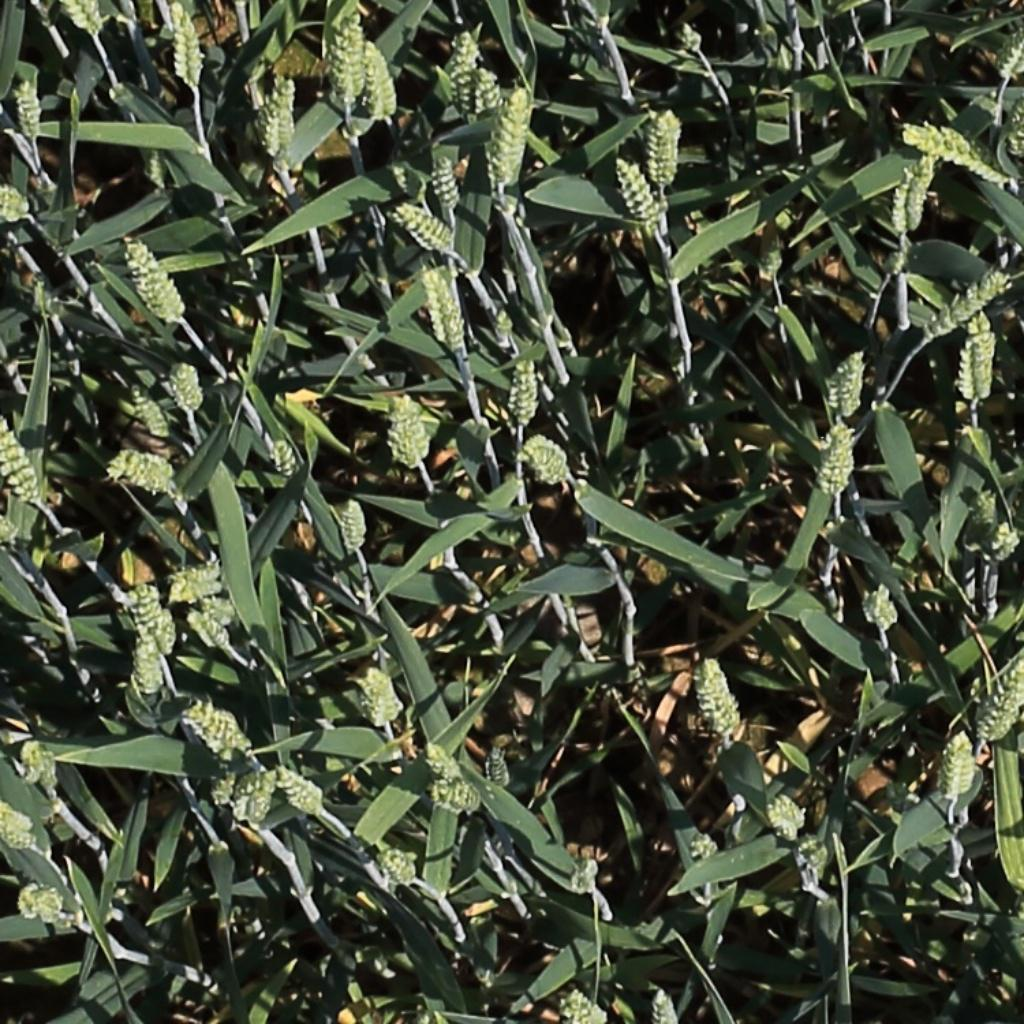0-0: (903, 122, 1008, 180), (121, 233, 187, 323), (927, 271, 1011, 338), (0, 390, 45, 506), (420, 262, 469, 353), (976, 656, 1024, 748), (890, 148, 940, 232), (700, 653, 745, 746), (613, 150, 664, 232), (954, 303, 996, 402), (211, 765, 279, 826), (249, 70, 297, 154), (128, 581, 176, 660), (498, 81, 532, 189), (190, 705, 257, 759), (125, 376, 176, 446), (824, 344, 871, 419), (391, 389, 431, 471), (361, 36, 398, 124), (393, 200, 456, 251), (169, 2, 203, 94), (285, 764, 341, 816), (133, 607, 163, 703), (758, 785, 809, 841), (502, 349, 539, 426), (17, 734, 61, 798), (823, 417, 856, 502), (420, 737, 469, 793), (453, 23, 480, 124), (793, 829, 835, 891), (473, 58, 509, 128), (338, 10, 364, 106), (182, 607, 234, 655), (363, 663, 398, 733), (521, 438, 573, 484), (943, 731, 973, 809), (196, 584, 249, 628), (653, 103, 679, 191), (374, 846, 420, 894), (109, 454, 172, 488), (172, 353, 204, 419), (675, 821, 733, 857), (15, 72, 43, 146), (384, 157, 430, 201), (432, 148, 462, 215), (993, 21, 1024, 84), (16, 886, 62, 927), (266, 431, 301, 484), (871, 578, 901, 638), (570, 849, 602, 903), (65, 0, 106, 42), (143, 139, 173, 196), (987, 520, 1021, 570), (0, 804, 36, 851), (484, 740, 513, 798), (342, 491, 367, 558), (562, 988, 606, 1024), (674, 16, 709, 61), (972, 481, 999, 536), (649, 980, 681, 1024), (430, 786, 484, 812), (0, 185, 31, 214), (0, 502, 16, 543)
